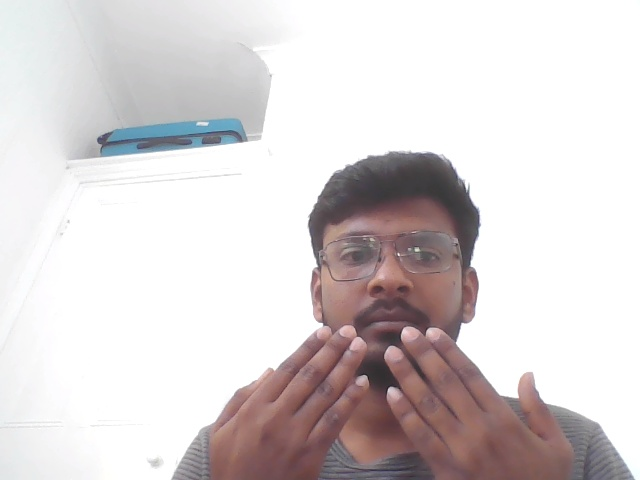Thank You: (164, 296, 597, 480)
